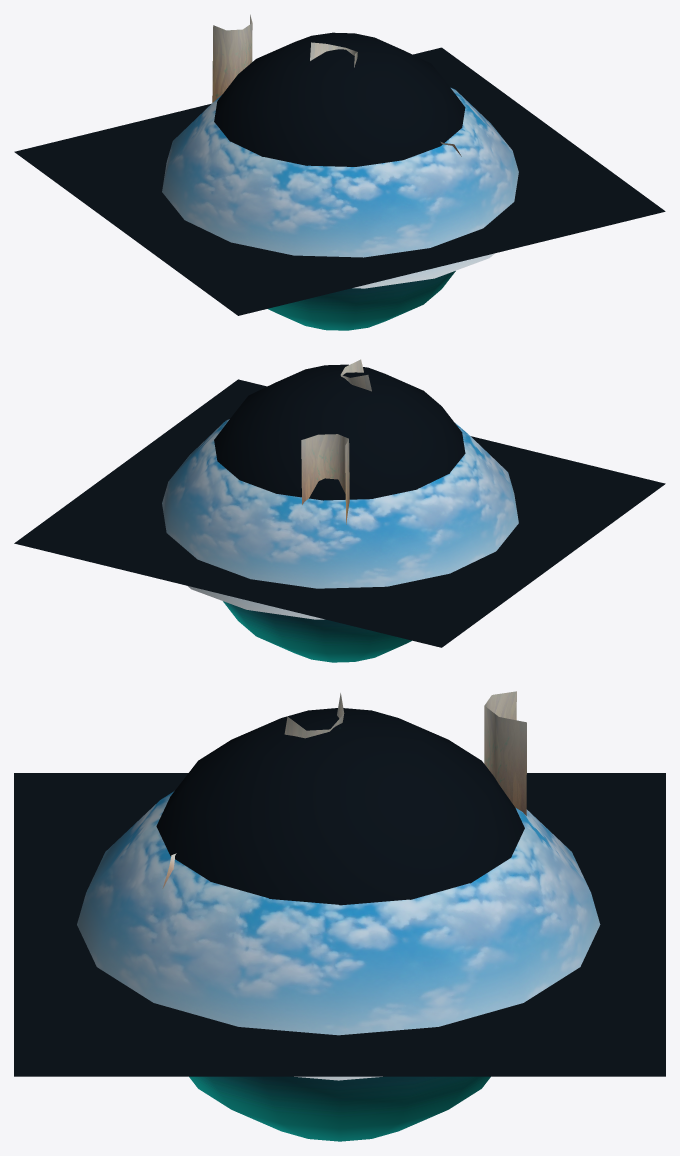
Rendered from BattleArea_0100001.fbx.
3 views of the same model, one above another, from view 1: azimuth 30°, elevation 25°; view 2: azimuth 150°, elevation 25°; view 3: azimuth 270°, elevation 25° (orthographic). The views are drawn at different scales.
Parts seen in each view (by area): view 1: skillbg_02, sky_01_001, skillbg_01, battle_10_001_Ltree; view 2: skillbg_02, sky_01_001, skillbg_01, battle_10_001_Ltree; view 3: skillbg_02, sky_01_001, skillbg_01, battle_10_001_Ltree.
Boxes of the visible parts, bbox=[...] form: skillbg_02: bbox=[14, 47, 665, 315]; sky_01_001: bbox=[162, 87, 518, 288]; skillbg_01: bbox=[214, 32, 465, 330]; battle_10_001_Ltree: bbox=[212, 14, 461, 156]; skillbg_02: bbox=[14, 379, 665, 647]; sky_01_001: bbox=[162, 419, 518, 619]; skillbg_01: bbox=[214, 364, 465, 662]; battle_10_001_Ltree: bbox=[301, 359, 371, 524]; skillbg_02: bbox=[14, 773, 665, 1076]; sky_01_001: bbox=[77, 791, 600, 1080]; skillbg_01: bbox=[156, 708, 524, 1141]; battle_10_001_Ltree: bbox=[162, 691, 526, 888].
Size of the model in its own units: 310 by 195 by 281.
